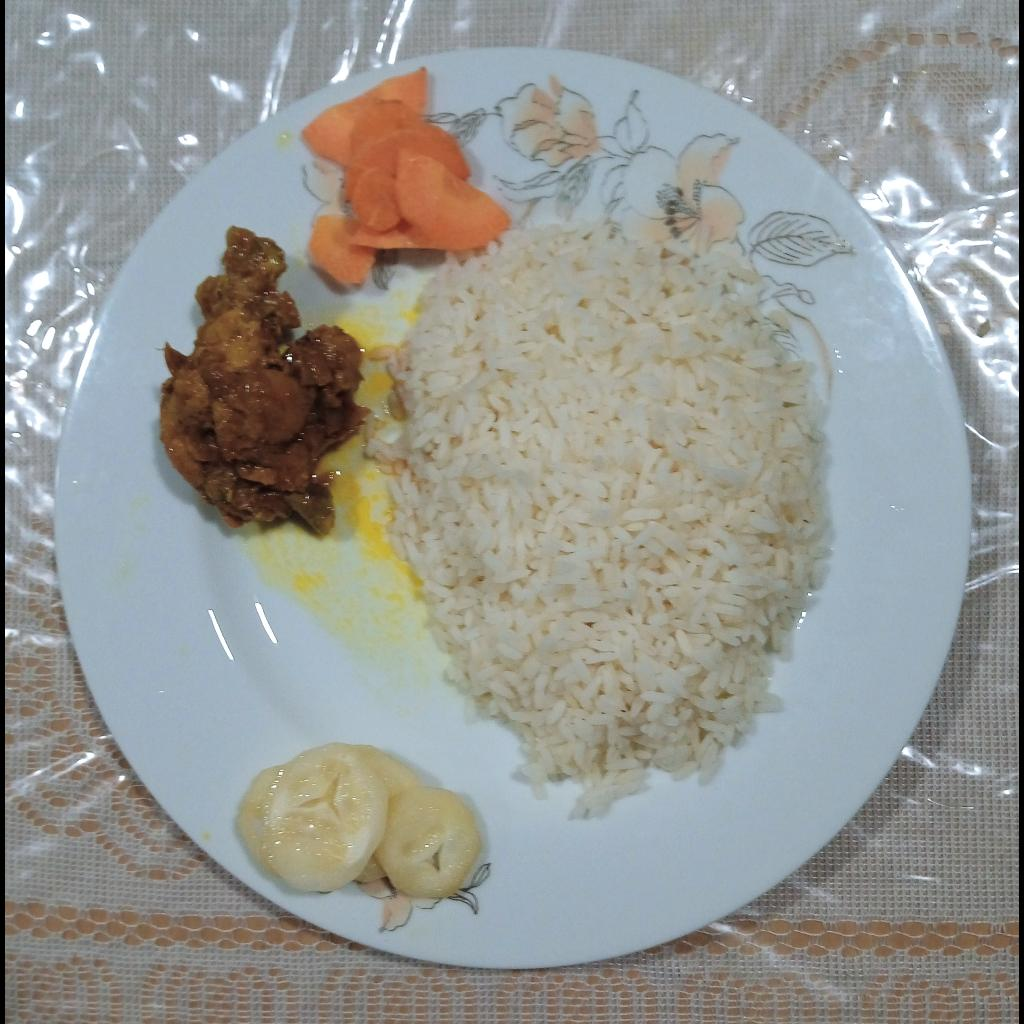carrot: (301, 65, 513, 285)
chicken: (159, 223, 375, 533)
cucumber: (237, 744, 484, 897)
rice: (364, 223, 839, 818)
